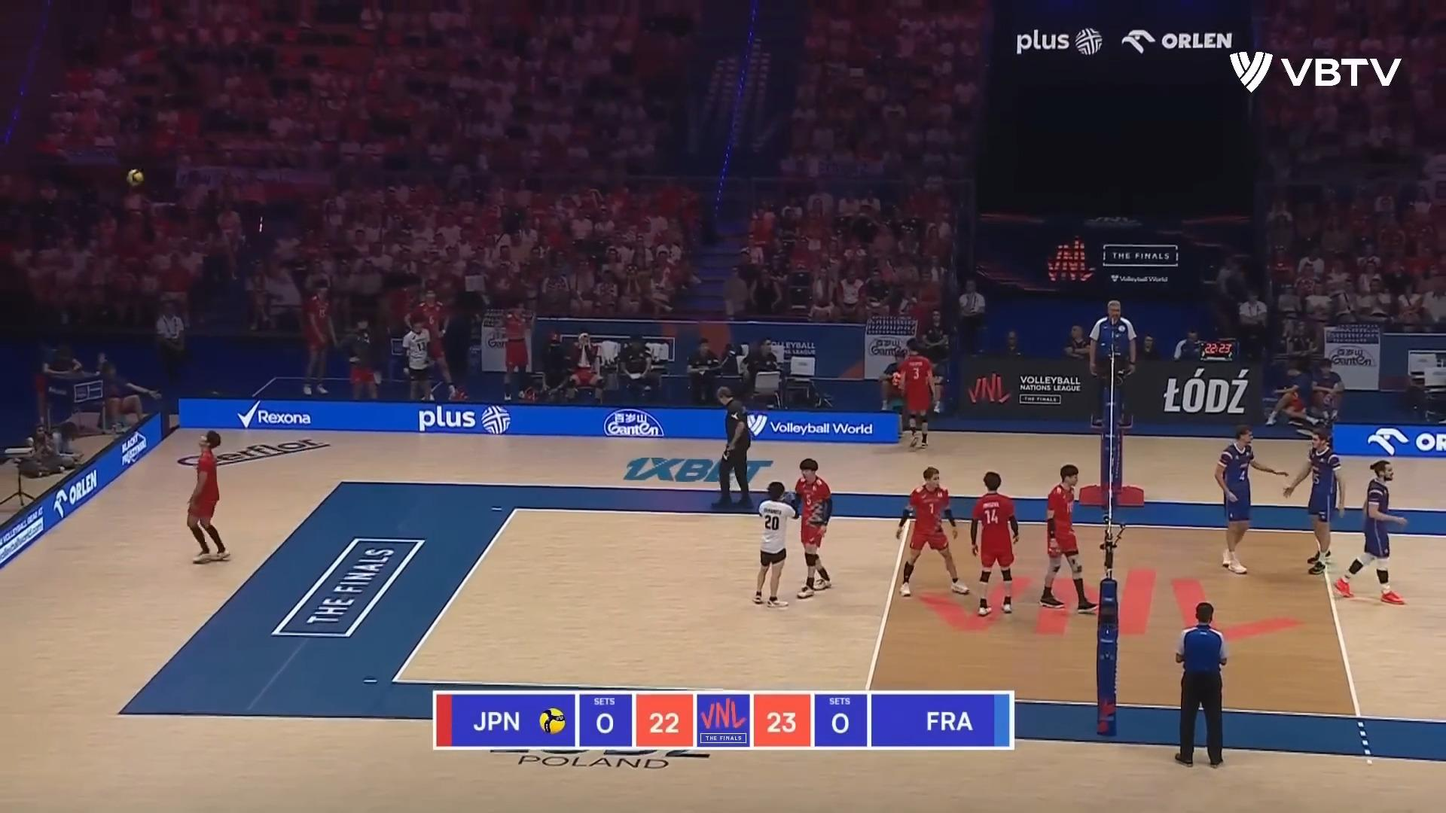ball: (125, 168, 146, 187)
